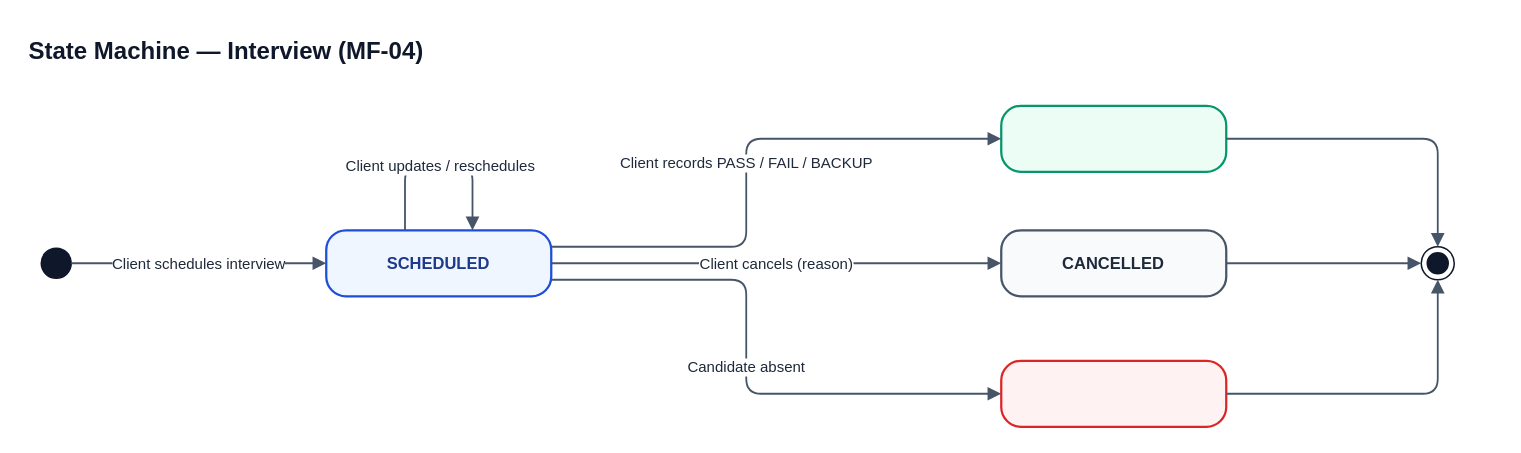
This 1521x453 diagram has some shape labels left out. Each missing label, with the box of its shape:
COMPLETED: (999, 104, 1227, 172)
NO_SHOW: (999, 359, 1227, 427)
